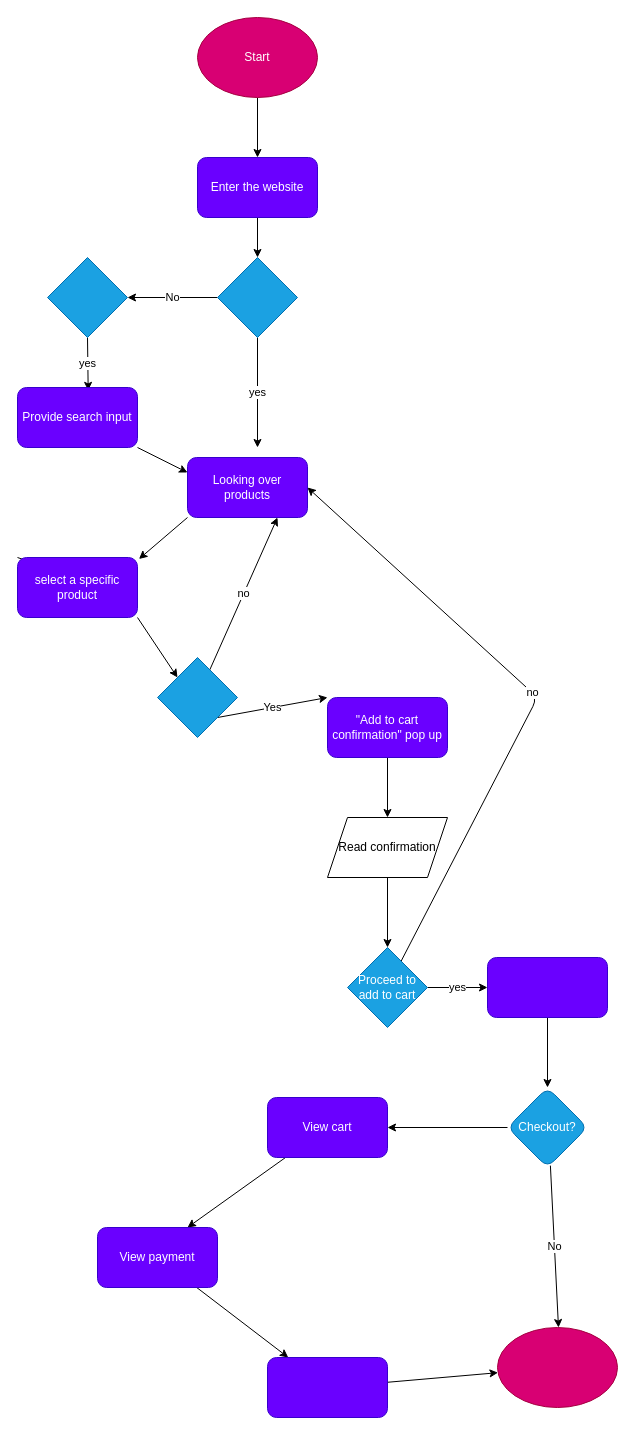
Some shapes in this 635 by 1435 pixel diagram are drawn without their labels. The shapes that lost their labels are listed below. From the top down, each one's centre as x and y in pixels, then its label:
At point (87, 297): "Search for product".
At point (257, 297): "Explore home page".
At point (197, 697): "Add to cart".
At point (547, 987): "Gets added to cart".
At point (327, 1387): "Order confirmation + recieve email".
At point (557, 1367): "Leave the site".
